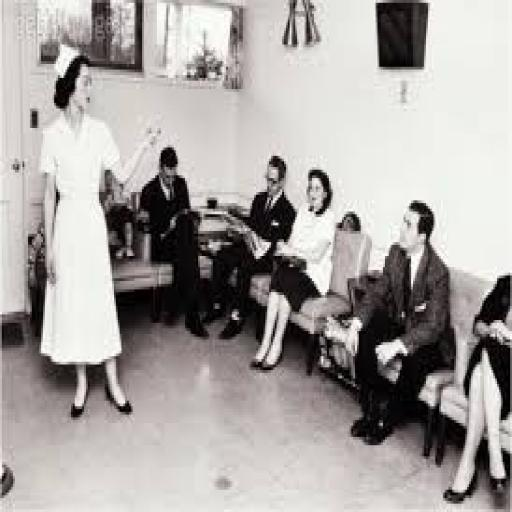sitting: (137, 139, 510, 501), (323, 198, 452, 445), (249, 164, 338, 373)
